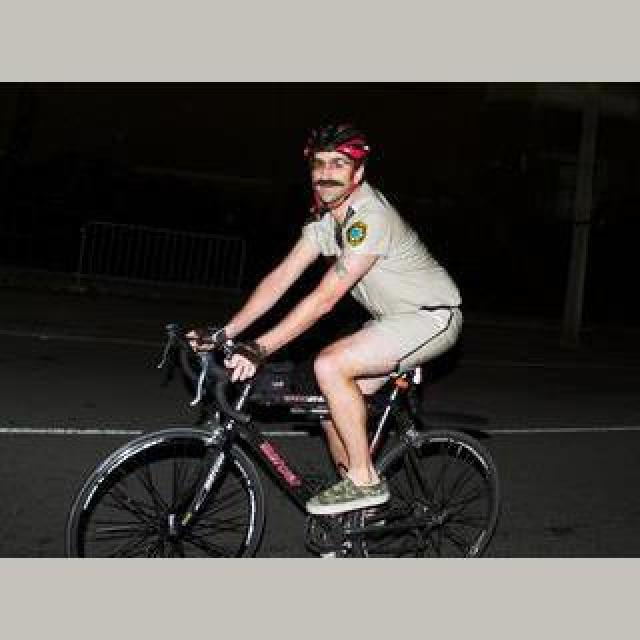MC-Bike: (206, 116, 462, 530)
Person: (62, 315, 498, 557)
